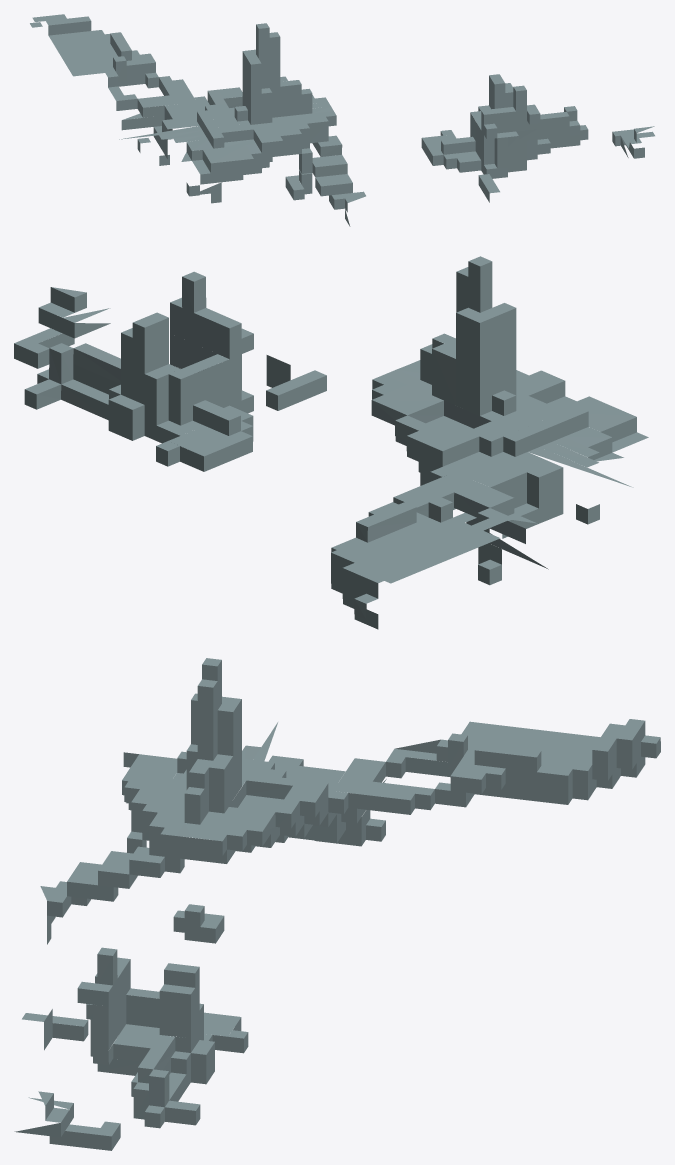
3 renders of one model, top to bottom at view 1: azimuth 30°, elevation 25°; view 2: azimuth 150°, elevation 25°; view 3: azimuth 270°, elevation 25°, orthographic. The views are drawn at different scales.
Parts seen in each view (by area): view 1: measured-industrial; view 2: measured-industrial; view 3: measured-industrial.
Part boxes in pixels (<box>): measured-industrial: <box>30,14,654,226</box>; measured-industrial: <box>14,256,648,629</box>; measured-industrial: <box>14,658,660,1150</box>.
Size of the model in its own units: 50.15 by 17 by 40.04.
